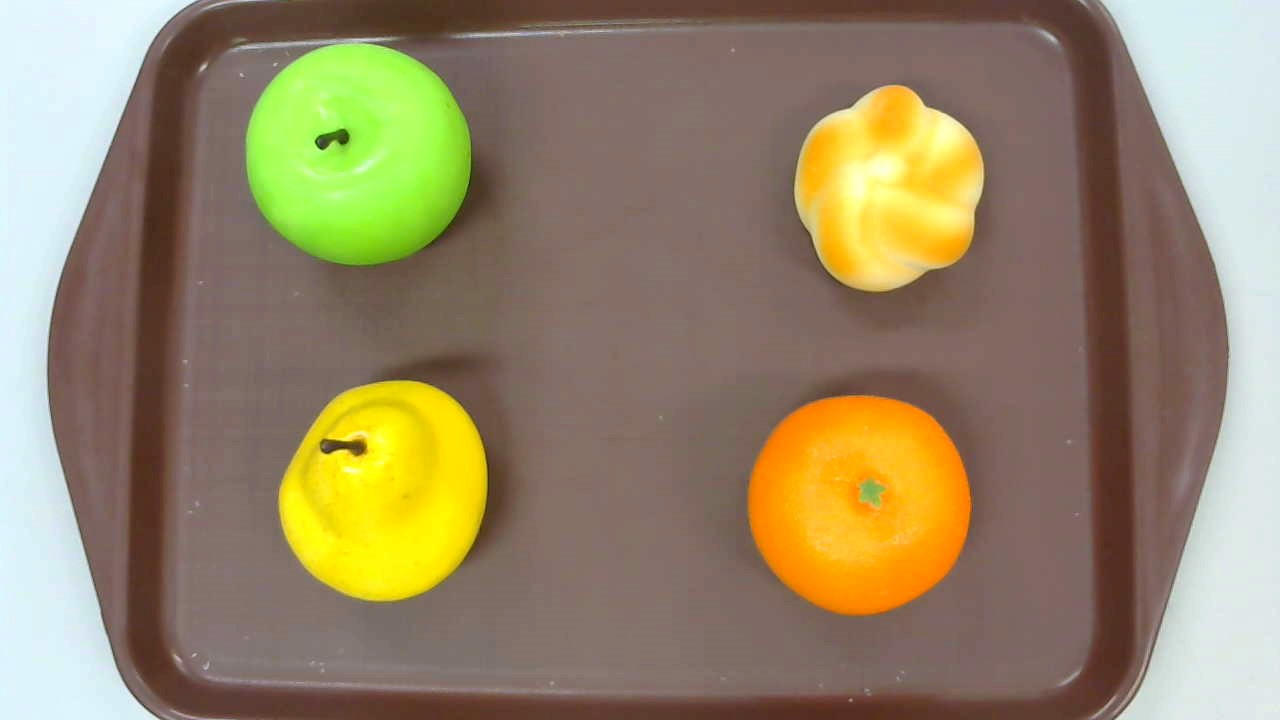green apple: (245, 43, 472, 267)
orange: (747, 396, 971, 616)
twist bread: (792, 84, 985, 294)
yellow pear: (278, 379, 487, 603)
